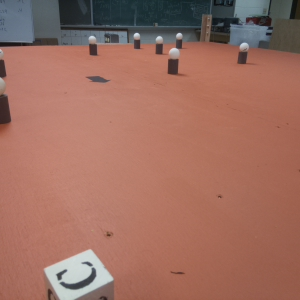blockC: (44, 252, 112, 300)
corner: (199, 14, 210, 41)
obstacle: (166, 48, 180, 73), (237, 41, 249, 65), (88, 35, 97, 55), (154, 36, 163, 55), (175, 32, 184, 49), (132, 34, 141, 49)
start: (86, 74, 111, 84)
